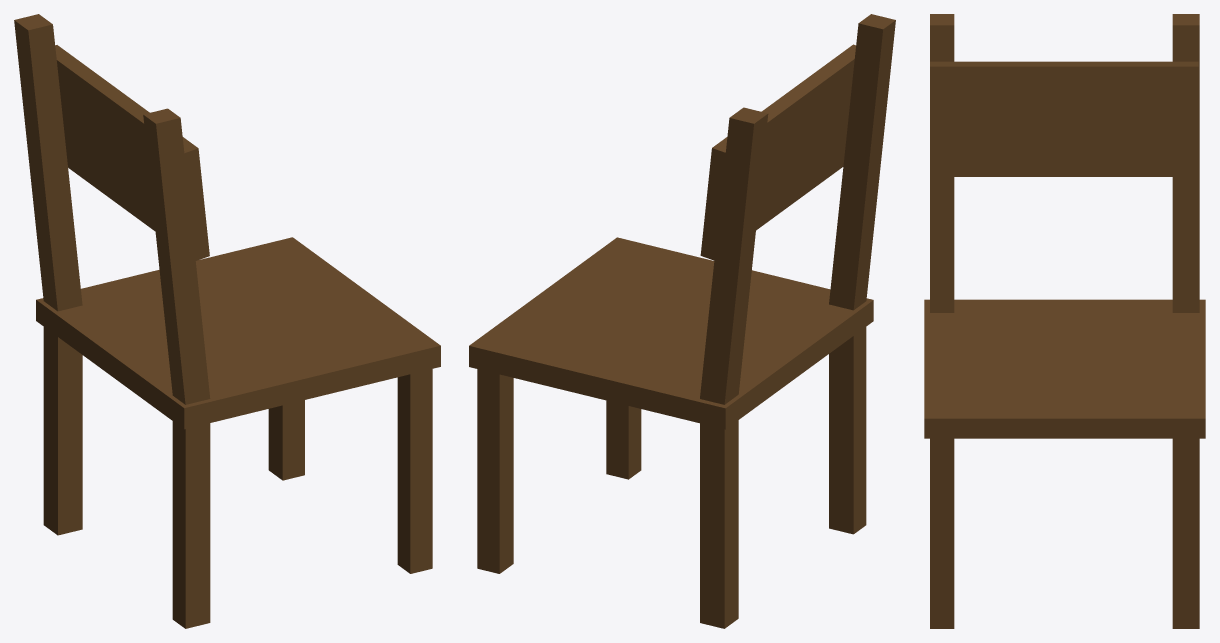
The model's file is TableChair_1.fbx.
The picture shows the model from 3 angles, left to right: view 1: azimuth 30°, elevation 25°; view 2: azimuth 150°, elevation 25°; view 3: azimuth 270°, elevation 25°; orthographic projection. The views are drawn at different scales.
Parts seen in each view (by area): view 1: pCube1; view 2: pCube1; view 3: pCube1.
Part boxes in pixels (left/top/right/bottom): pCube1: left=14, top=14, right=440, bottom=628; pCube1: left=469, top=14, right=895, bottom=628; pCube1: left=924, top=14, right=1205, bottom=628.
Size of the model in its own units: 0.00696 by 0.0121 by 0.00633.
